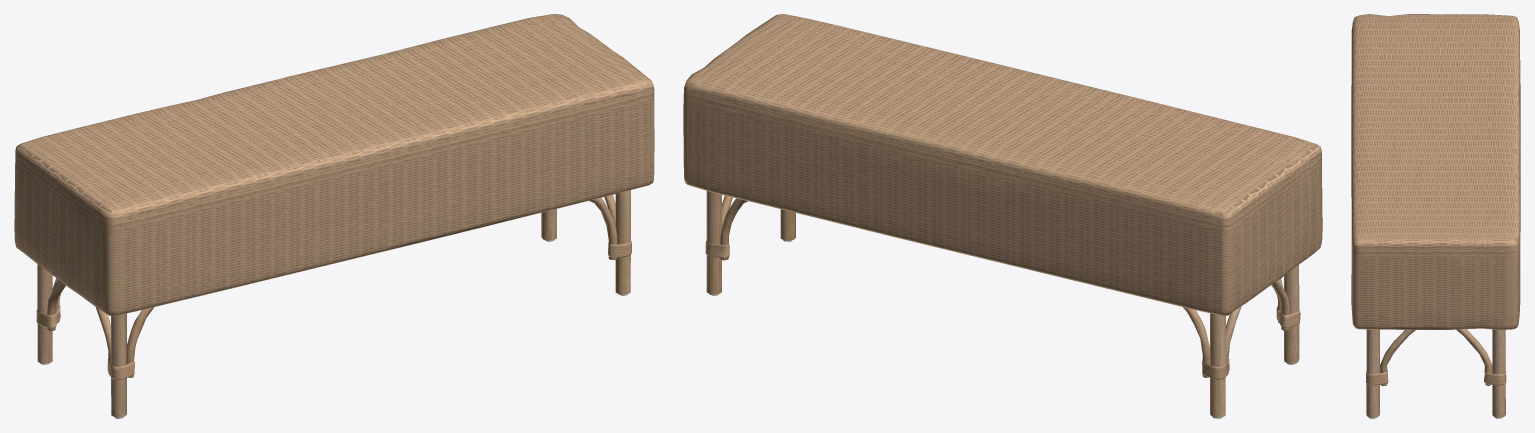
Rendered from LB-BENCH-05.glb.
The picture shows the model from 3 angles, left to right: view 1: azimuth 30°, elevation 25°; view 2: azimuth 150°, elevation 25°; view 3: azimuth 270°, elevation 25°; orthographic projection. The views are drawn at different scales.
Parts seen in each view (by area): view 1: ASY_ART_80512657_S01_NV01; view 2: ASY_ART_80512657_S01_NV01; view 3: ASY_ART_80512657_S01_NV01.
Part boxes in pixels (bbox=[...]): ASY_ART_80512657_S01_NV01: bbox=[14, 14, 654, 418]; ASY_ART_80512657_S01_NV01: bbox=[683, 14, 1322, 418]; ASY_ART_80512657_S01_NV01: bbox=[1351, 14, 1520, 418].
Bounding box in the file's own units: 1.2 × 0.4551 × 0.3743.
Materials: 1 (1 with a texture image).
